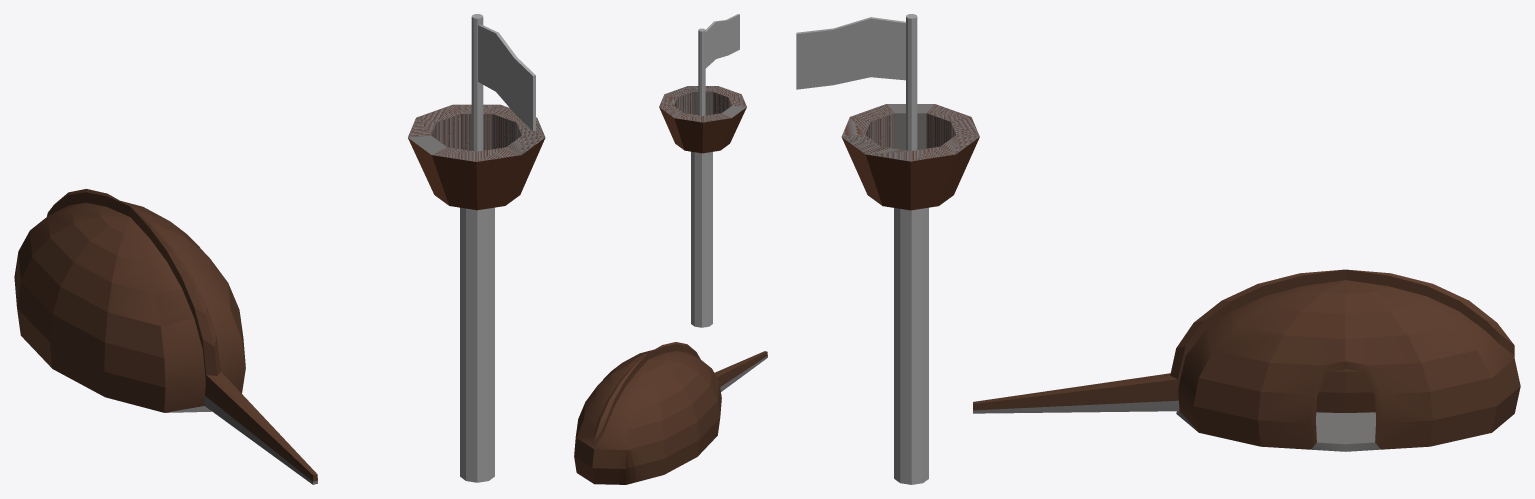
File: BoatExpo.fbx
The picture shows the model from 3 angles, left to right: view 1: azimuth 30°, elevation 25°; view 2: azimuth 150°, elevation 25°; view 3: azimuth 270°, elevation 25°; orthographic projection. The views are drawn at different scales.
Visible parts, largest first — view 1: pSphere2, pCylinder3, pCylinder2, pCube1, pCylinder4; view 2: pSphere2, pCylinder3, pCylinder2, pCube1, pCylinder4; view 3: pSphere2, pCylinder3, pCylinder2, pCube1, pCylinder4.
Boxes of the visible parts, <box> form: pSphere2: <box>14,189,317,484</box>; pCylinder3: <box>408,104,545,210</box>; pCylinder2: <box>460,207,494,482</box>; pCube1: <box>478,24,535,131</box>; pCylinder4: <box>471,14,483,151</box>; pSphere2: <box>574,342,767,484</box>; pCylinder3: <box>659,86,746,153</box>; pCylinder2: <box>691,151,712,327</box>; pCube1: <box>705,14,739,68</box>; pCylinder4: <box>698,28,705,115</box>; pSphere2: <box>973,269,1520,451</box>; pCylinder3: <box>841,104,979,210</box>; pCylinder2: <box>894,207,928,484</box>; pCube1: <box>796,17,905,89</box>; pCylinder4: <box>906,14,917,150</box>.
Bounding box in the file's own units: 6.21 × 10.06 × 14.3.
3 materials, 2 textured.
